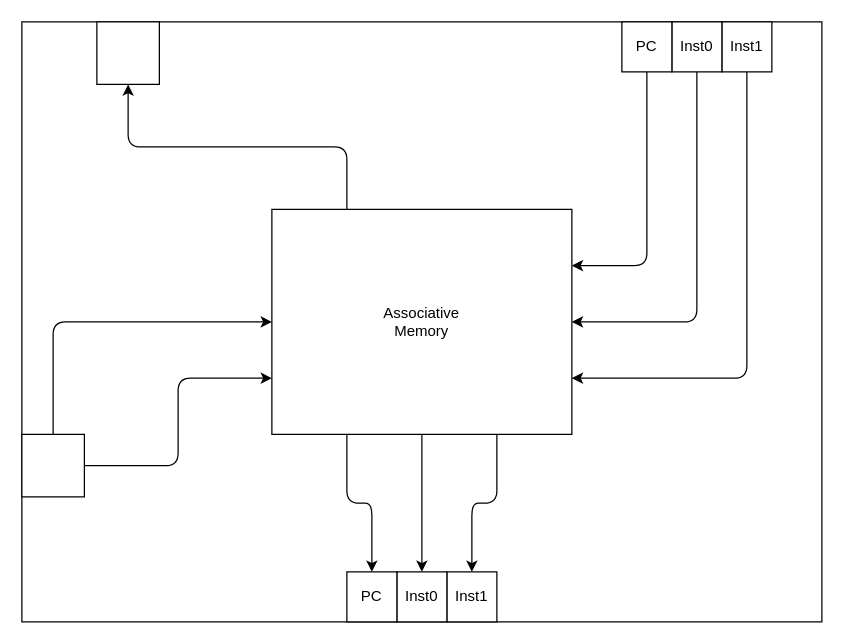
This 844x644 diagram has some shape labels left out. The centre of each missing label's shape, as x and y in pixels:
"Branch Exec" goes at point 52,465.
"Branch Fetch2" goes at point 127,52.
